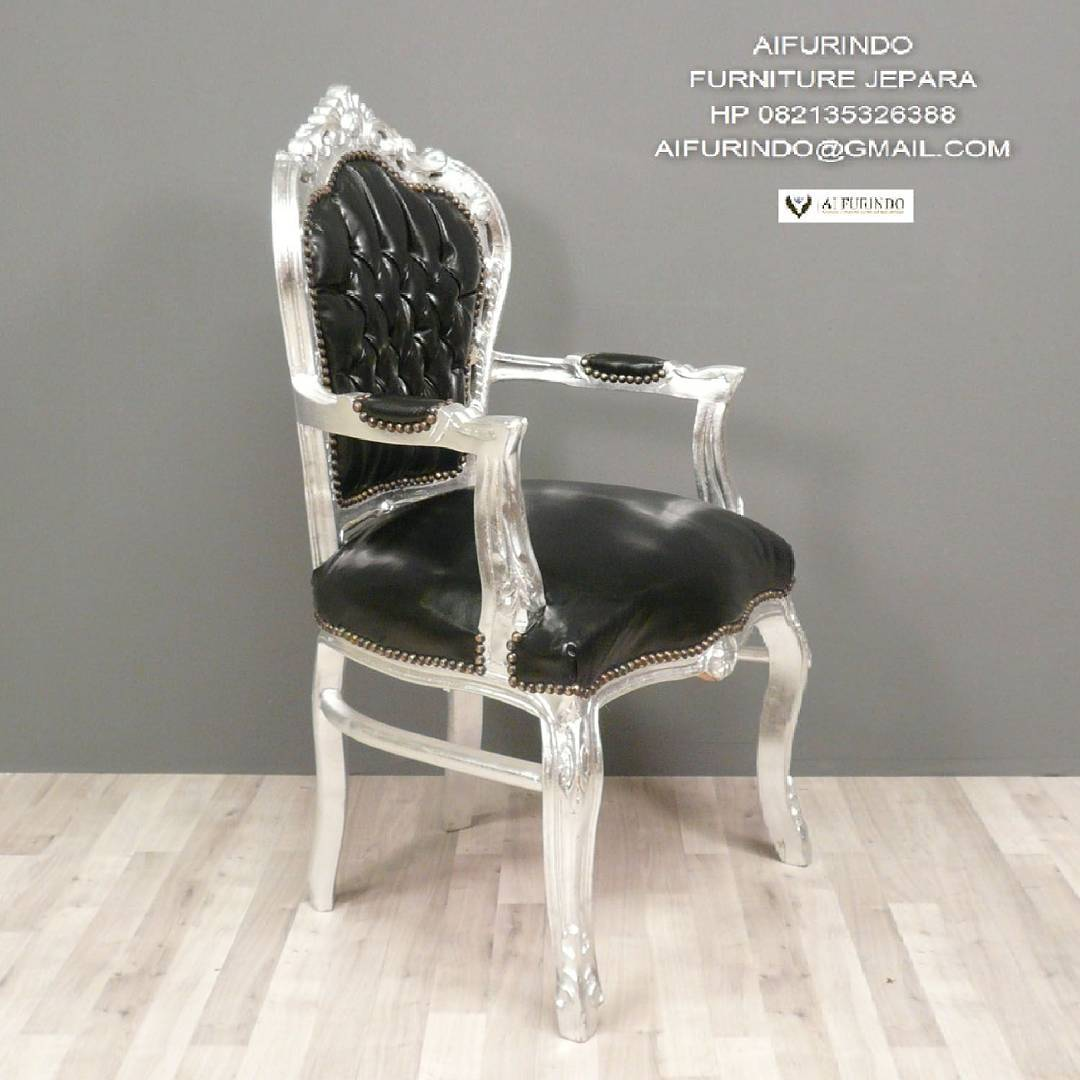Carving Chair: (266, 99, 820, 976)
